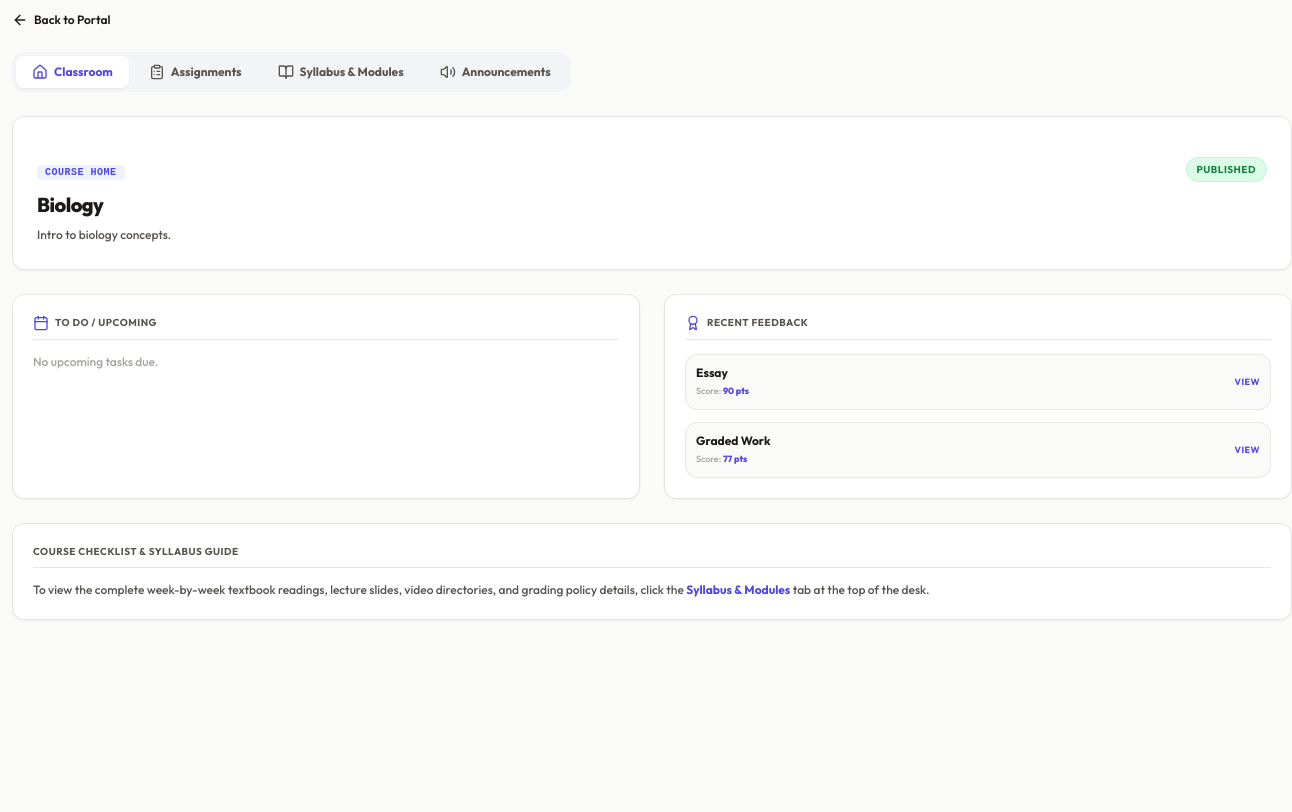
Test case: StudentClassDetailPage › shows the empty state when the class has no assignments
Expected: the heading "Biology" is shown, [37, 192, 103, 217]
Click the button "Assignments": (195,72) [133, 56, 258, 88]
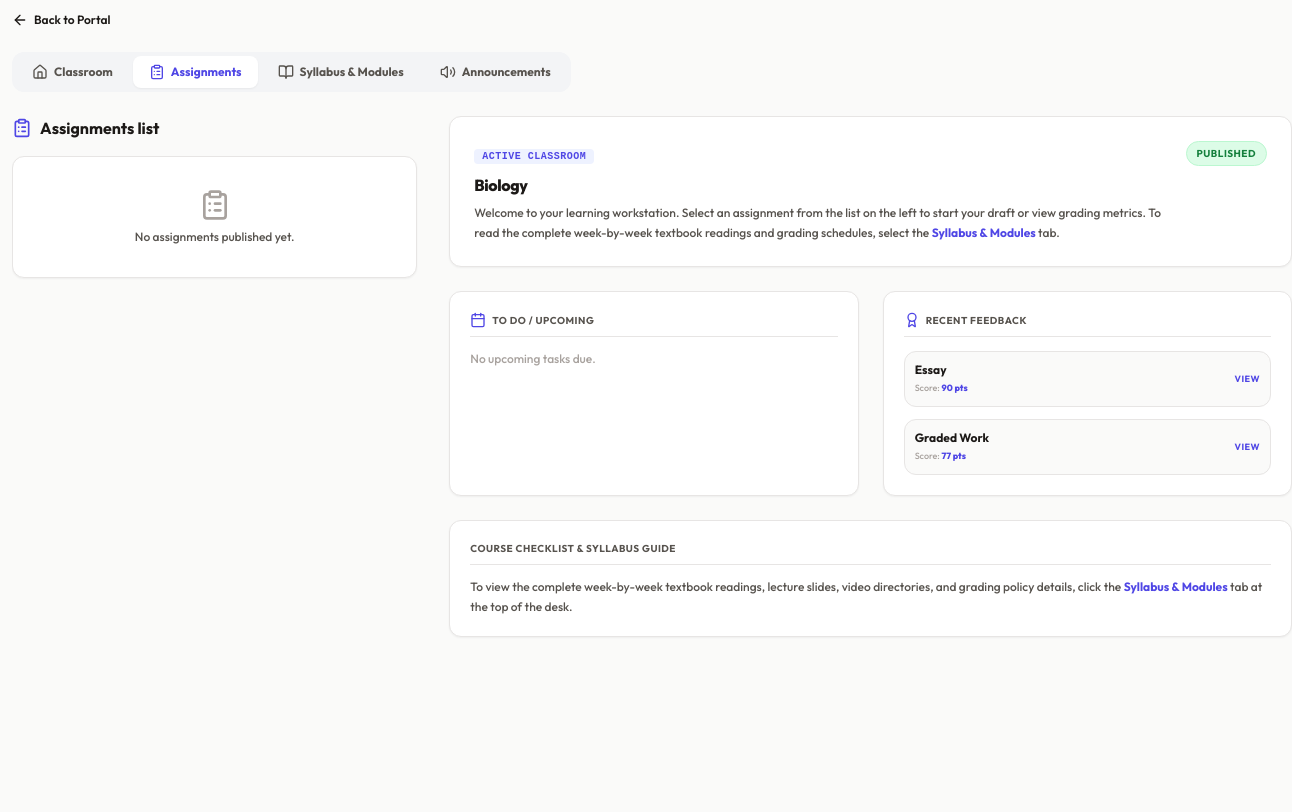
Now the text "No assignments published yet." is shown, box [135, 229, 294, 244]
